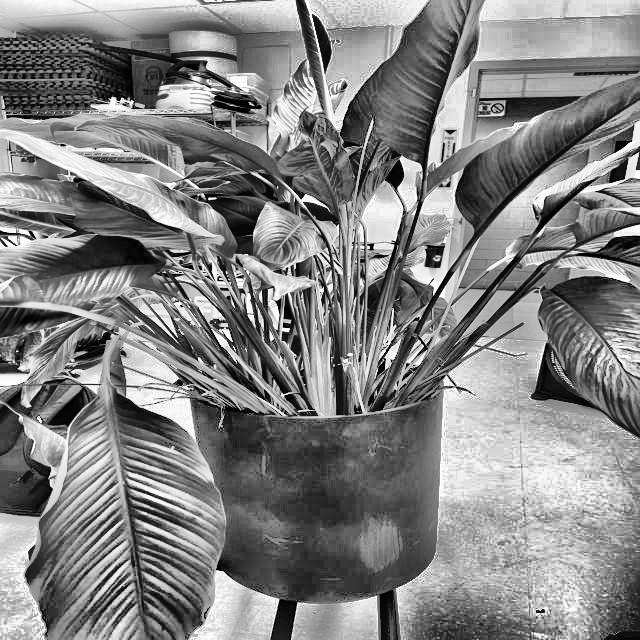plants: (55, 98, 636, 414)
